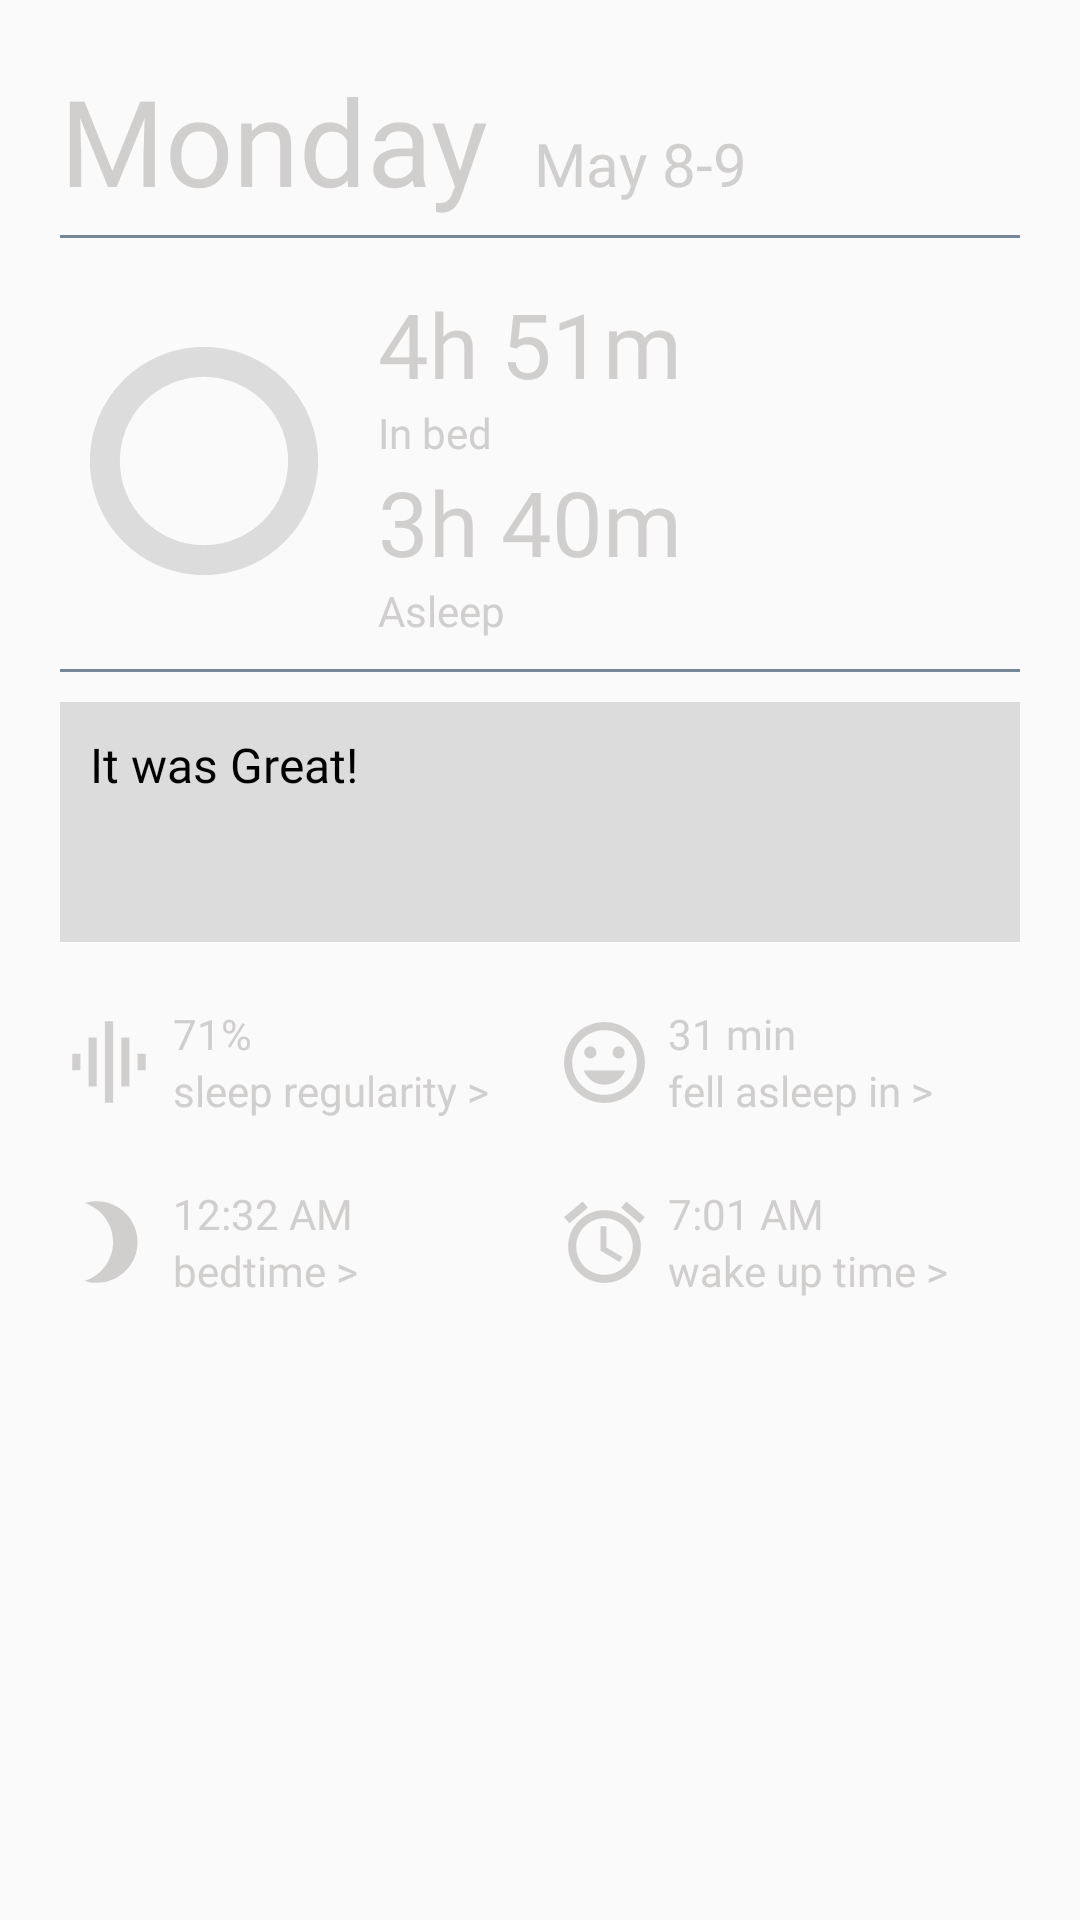

Where to tap for icons on this 1080×1920 app screen, as (x,y):
access alarm: (604,1242)
brightness: (111,1242)
graphic eq: (109,1062)
mood: (604,1062)
